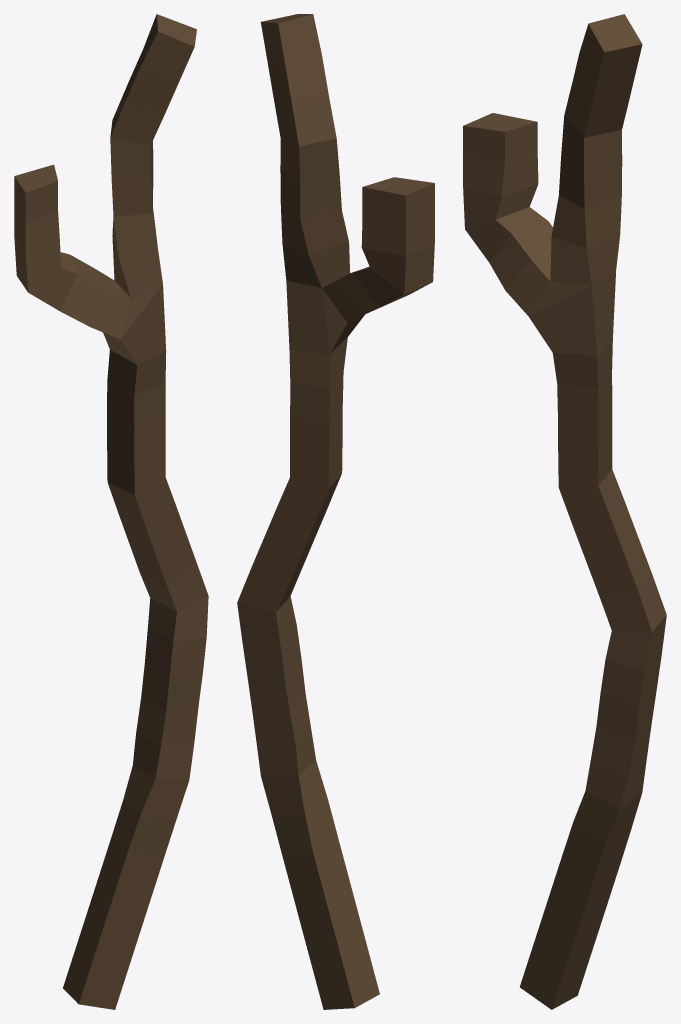
Rendered from stick1.fbx.
3 renders of one model, left to right at view 1: azimuth 30°, elevation 25°; view 2: azimuth 150°, elevation 25°; view 3: azimuth 330°, elevation 25°, orthographic. The views are drawn at different scales.
Parts seen in each view (by area): view 1: Cube.004; view 2: Cube.004; view 3: Cube.004.
Boxes of the visible parts, x1,y1,x2,y2 form: Cube.004: (14, 14, 208, 1009); Cube.004: (237, 14, 434, 1009); Cube.004: (463, 14, 666, 1009).
Size of the model in its own units: 572 by 2895 by 219.
